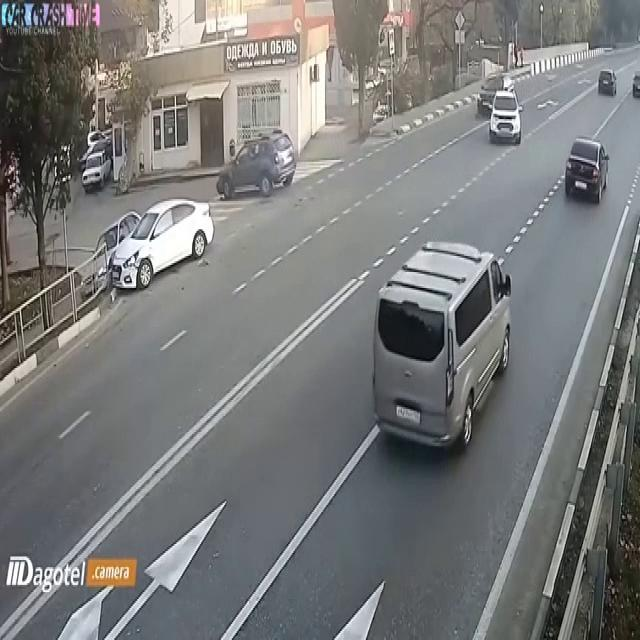accident: (66, 182, 192, 308)
